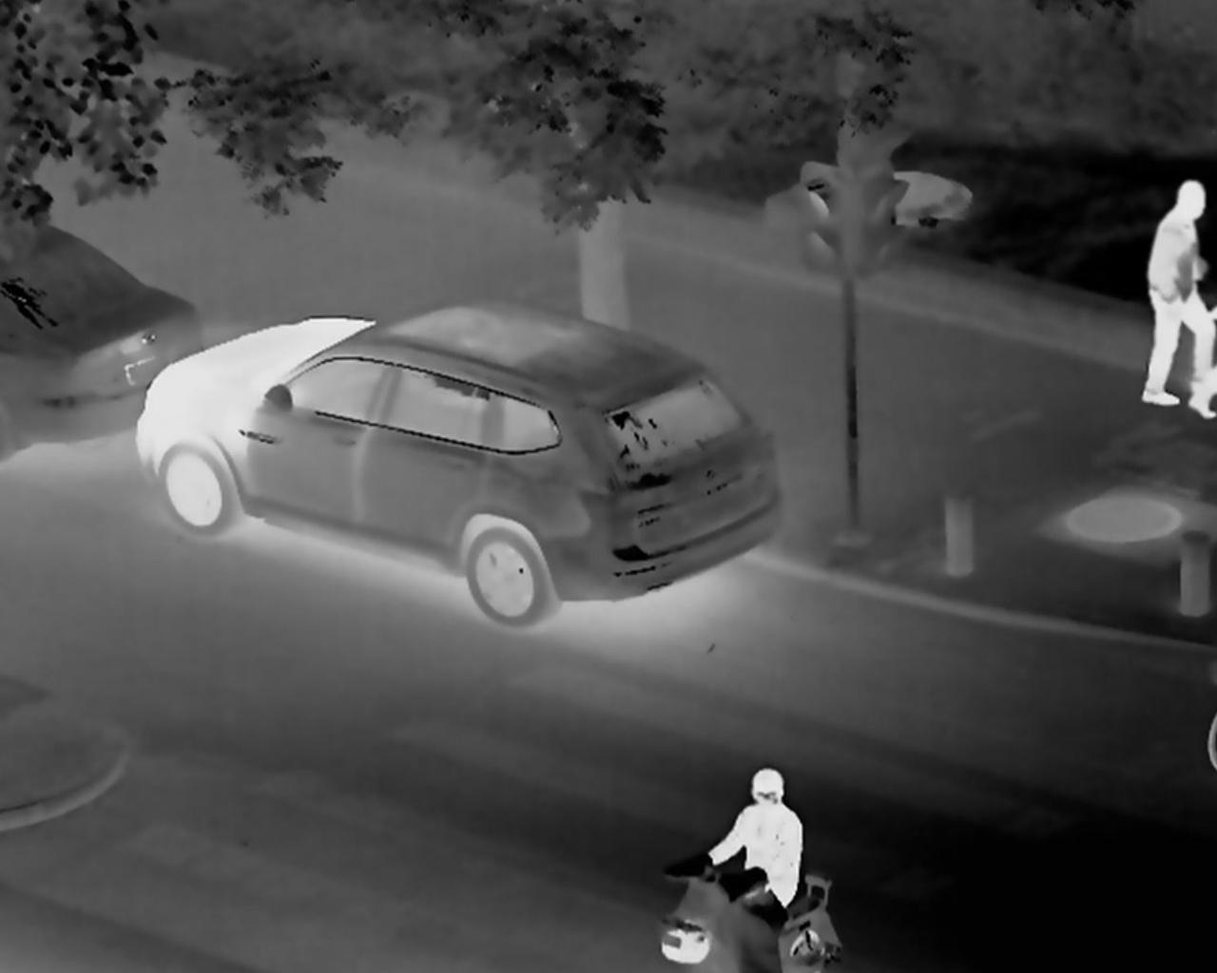person: (1147, 175, 1212, 421), (726, 743, 810, 921)
